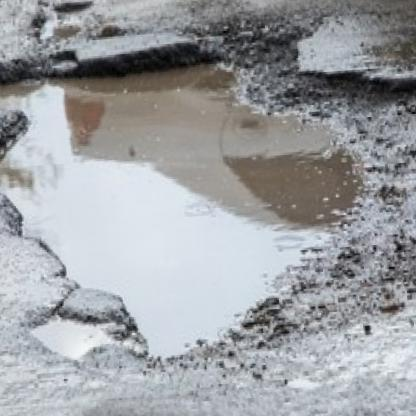pothole: (0, 11, 416, 372)
